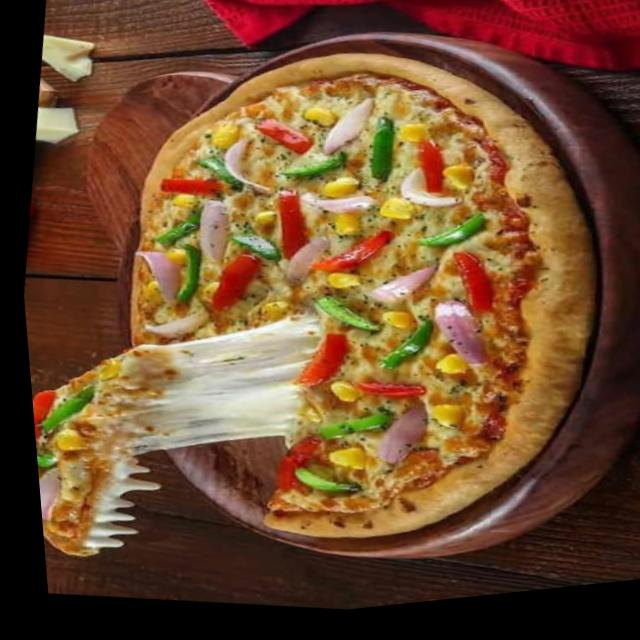pizza: (2, 0, 640, 637)
